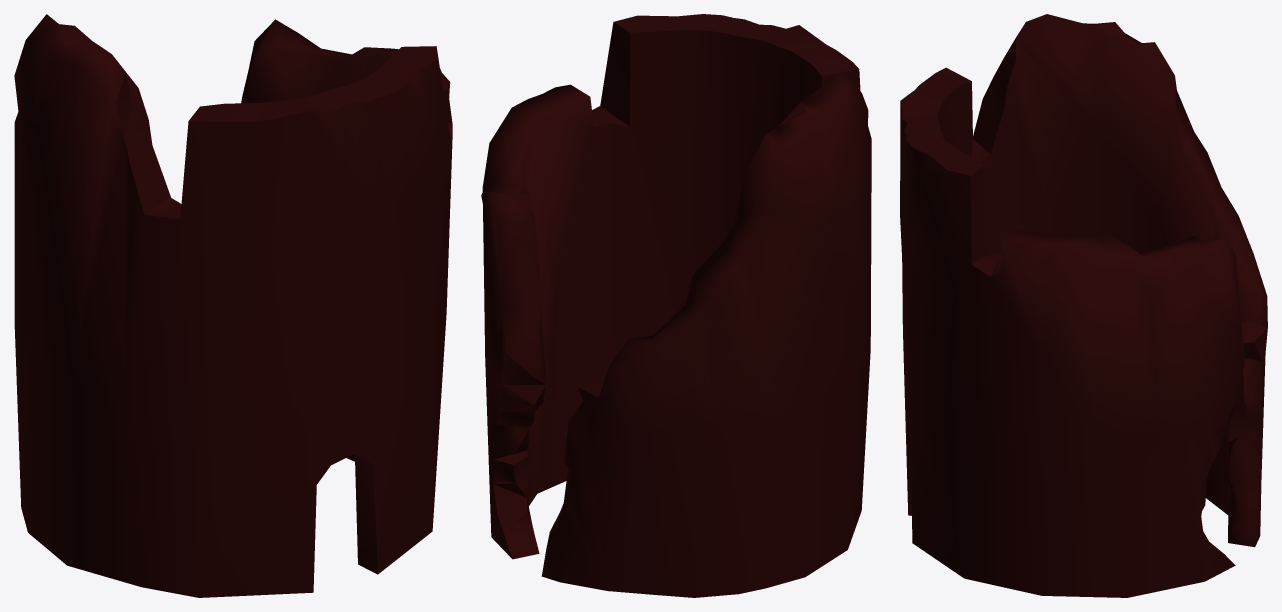
Rendered from UCX_Castle_Tower_B.fbx.
3 renders of one model, left to right at view 1: azimuth 30°, elevation 25°; view 2: azimuth 150°, elevation 25°; view 3: azimuth 270°, elevation 25°, orthographic. The views are drawn at different scales.
Visible parts, largest first — view 1: UCX_Castle_Tower_B; view 2: UCX_Castle_Tower_B; view 3: UCX_Castle_Tower_B.
Boxes of the visible parts, x1=… form: UCX_Castle_Tower_B: x1=14, y1=14, x2=452, y2=597; UCX_Castle_Tower_B: x1=481, y1=14, x2=871, y2=597; UCX_Castle_Tower_B: x1=900, y1=14, x2=1267, y2=597.
Size of the model in its own units: 900 by 1195 by 892.
